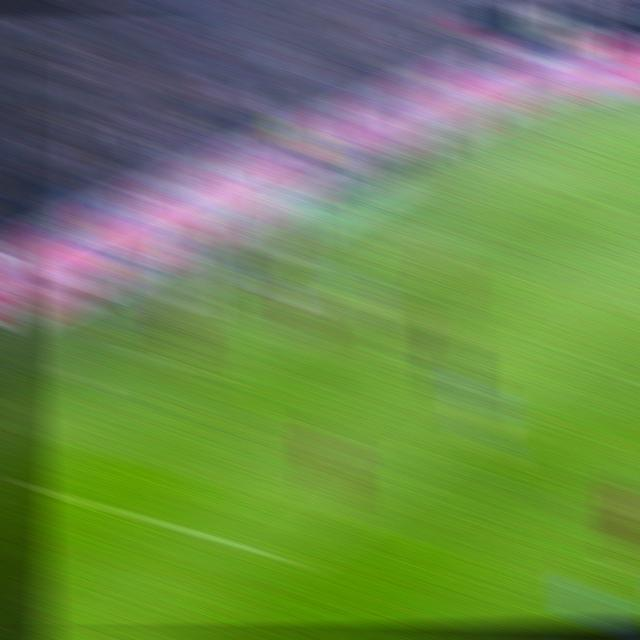bigarea_bottom_inner: (266, 538, 313, 578)
bigarea_top_outter: (447, 150, 487, 175)
corner: (566, 87, 613, 112)
smallarea_bottom_inner: (197, 355, 239, 390)
smallarea_bottom_outter: (91, 332, 134, 362)
smallarea_top_inner: (429, 223, 471, 254)
smallarea_top_outter: (334, 207, 375, 236)
